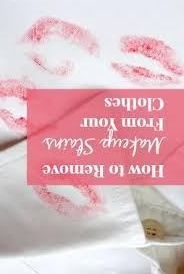lipstick: (16, 10, 102, 61), (112, 33, 181, 87), (30, 185, 93, 221), (24, 41, 80, 76), (1, 106, 27, 134), (68, 182, 105, 201), (0, 78, 23, 99)
